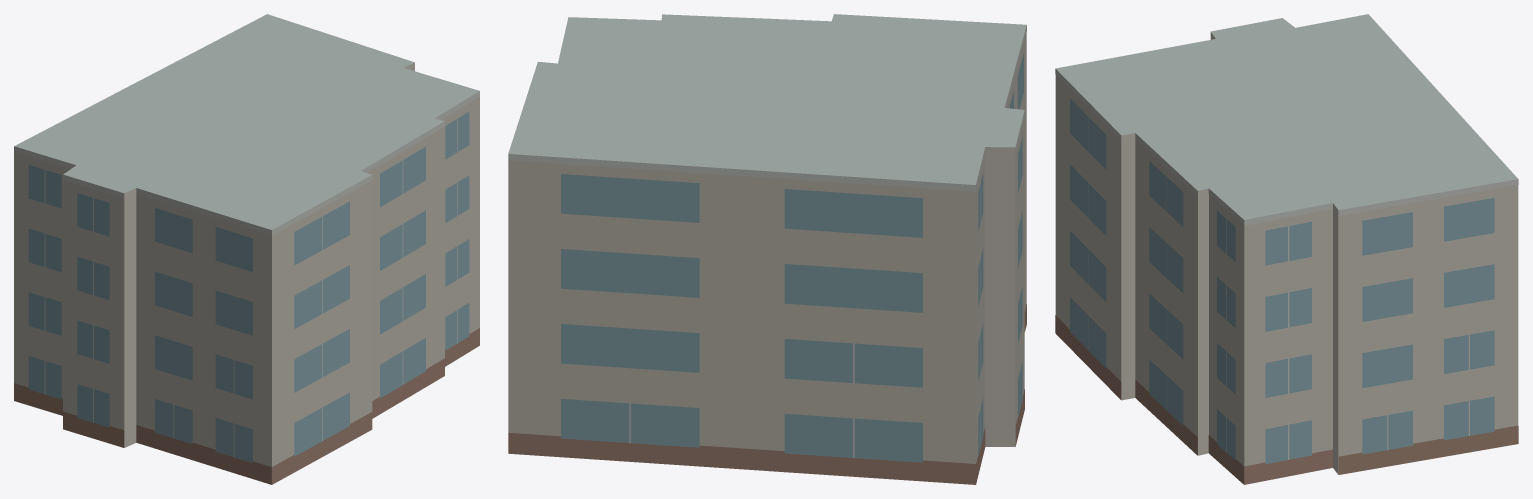
The model's file is survey-upis-32789120.glb.
3 views of the same model, side by side, from view 1: azimuth 30°, elevation 25°; view 2: azimuth 150°, elevation 25°; view 3: azimuth 270°, elevation 25° (orthographic). The views are drawn at different scales.
Visible parts, largest first — view 1: survey-upis-32789120.tmp; view 2: survey-upis-32789120.tmp; view 3: survey-upis-32789120.tmp.
Part boxes in pixels (box(x1,y1,x2,y2)): survey-upis-32789120.tmp: box(14, 14, 479, 484); survey-upis-32789120.tmp: box(508, 14, 1026, 484); survey-upis-32789120.tmp: box(1055, 14, 1518, 484).
Size of the model in its own units: 18.69 by 11.2 by 17.75.
